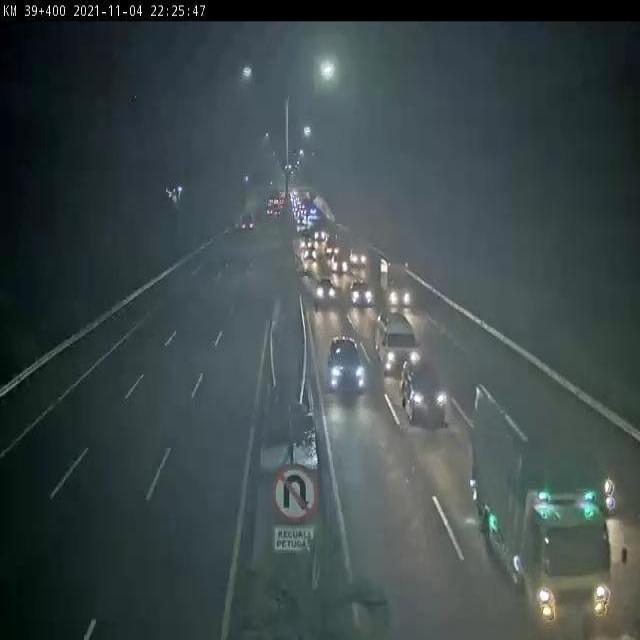ARABA: (400, 359, 447, 425), (327, 328, 367, 393), (313, 274, 337, 306), (350, 278, 373, 306)
KAMYONET: (474, 375, 618, 624), (377, 253, 417, 311)
OTOBUS: (375, 308, 421, 375)
